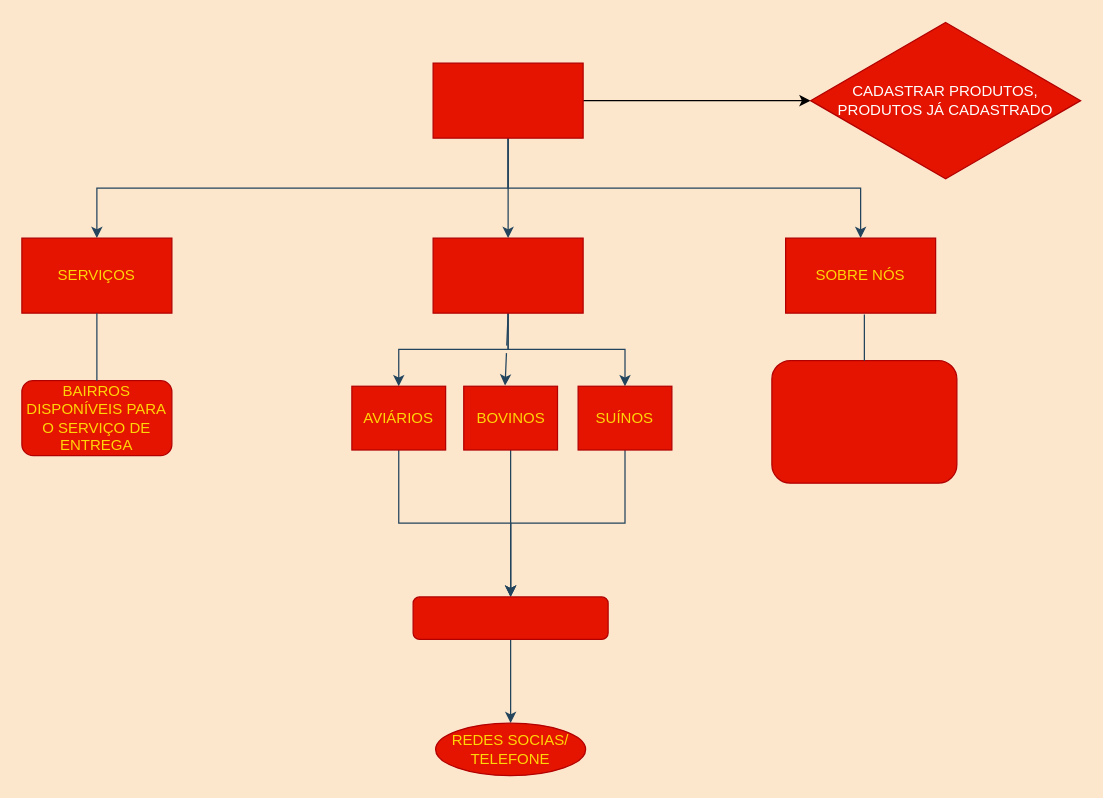
This 1103x798 diagram has some shape labels left out. The shapes that lost their labels are listed below. From the top down, each one's centre as x and y in pixels, then its label:
the point at 507,100: HOME PAGE FRANGO SERRANO
the point at 507,275: PRODUTOS
the point at 864,421: HISTÓRIA DA EMPRESA LOCALIZAÇÃO HÓRARIO DE FUNCIONAMENTO FORNECEDORES
the point at 510,617: LINK PARA REDIRECIONAMENTO
